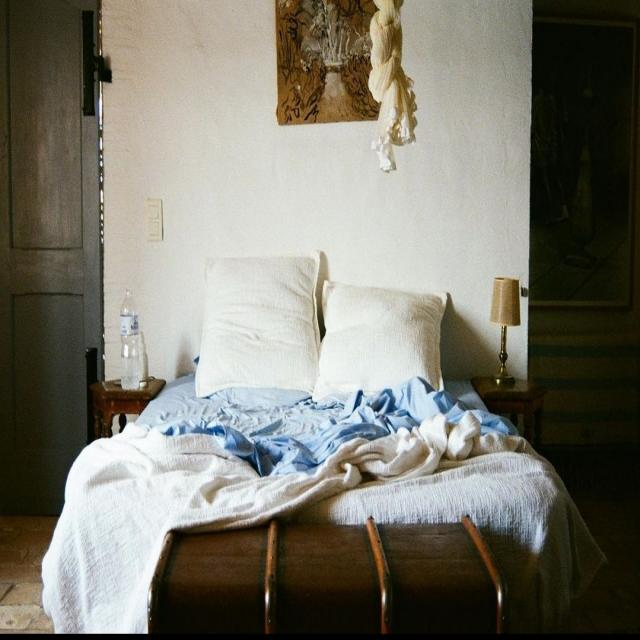bed: (120, 298, 535, 579)
